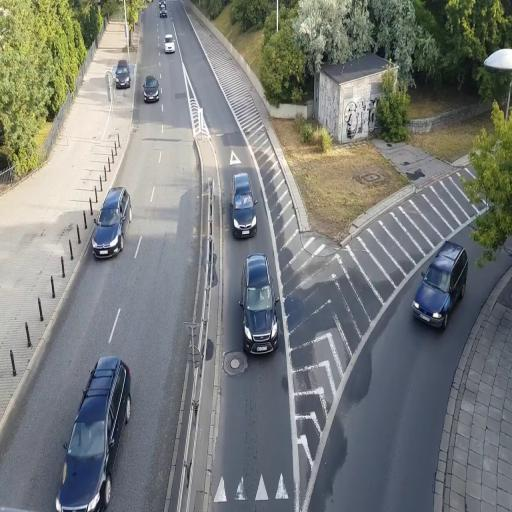vehicle: (56, 353, 132, 511), (412, 244, 468, 332), (93, 186, 132, 256), (92, 221, 123, 260), (114, 59, 132, 89), (144, 75, 160, 102), (164, 35, 176, 54)
